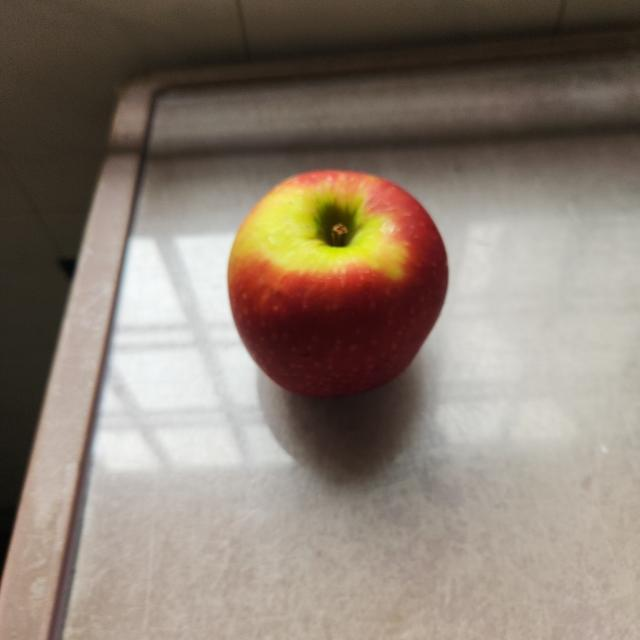apple: (224, 162, 456, 402)
